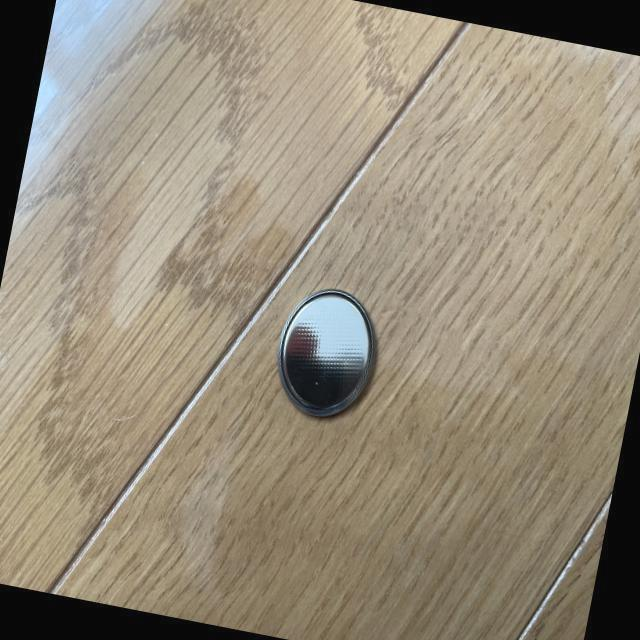COIN: (263, 280, 392, 428)
